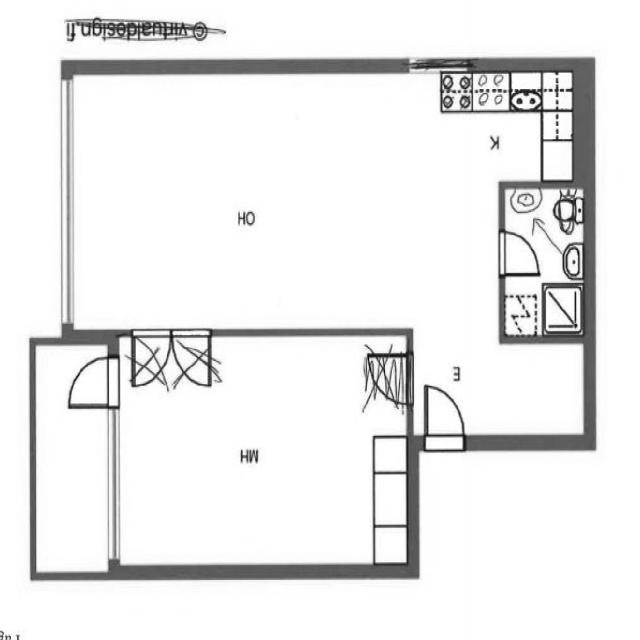door: (421, 378, 468, 438), (66, 352, 113, 408), (130, 329, 172, 390), (174, 325, 213, 390), (496, 221, 540, 278)
window: (100, 403, 130, 564), (58, 79, 73, 324)
zone: (72, 68, 500, 332), (114, 336, 410, 567), (501, 183, 591, 344)
